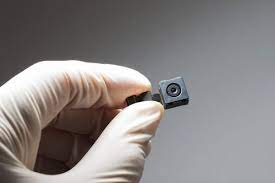Camera: (154, 73, 195, 108)
